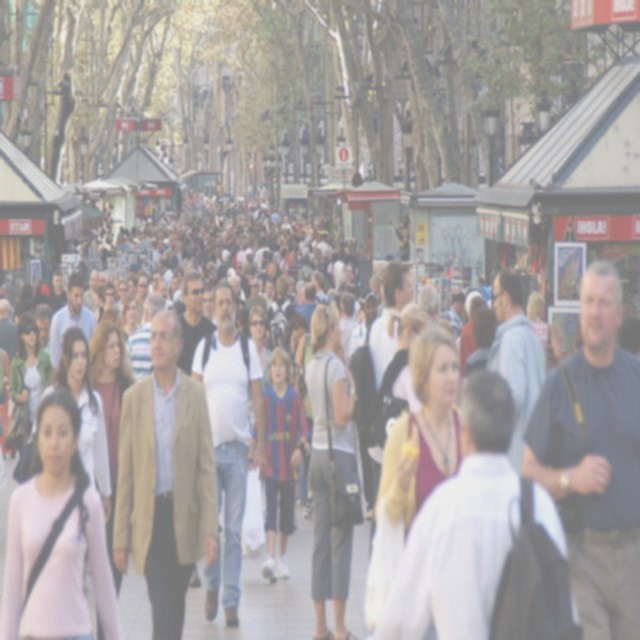pessoa: (375, 367, 586, 639), (515, 257, 639, 639), (112, 310, 221, 639), (0, 384, 126, 639), (188, 276, 270, 630), (10, 326, 113, 602), (302, 298, 368, 639), (372, 322, 467, 543), (236, 343, 313, 586), (367, 302, 433, 564), (115, 178, 358, 248), (86, 318, 138, 639), (485, 264, 548, 472), (68, 248, 226, 324), (225, 246, 321, 356), (3, 310, 57, 460), (347, 287, 380, 521), (362, 258, 416, 395), (320, 246, 385, 345), (11, 257, 69, 353), (48, 268, 98, 374), (294, 329, 320, 520), (176, 268, 218, 372), (246, 306, 274, 440), (125, 291, 164, 384), (264, 272, 298, 354), (526, 290, 564, 360), (464, 304, 498, 377), (451, 268, 495, 323), (68, 198, 115, 248), (385, 209, 413, 263), (0, 296, 19, 366), (446, 290, 468, 344), (418, 282, 443, 326), (0, 346, 9, 438)
